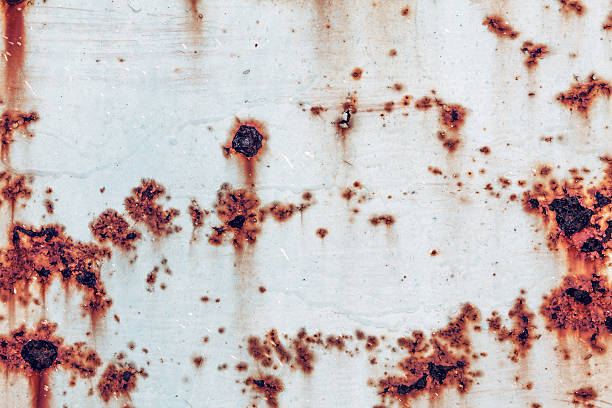rust: (2, 111, 323, 317), (236, 308, 487, 408), (502, 162, 612, 389), (479, 15, 608, 123), (333, 73, 480, 166), (2, 328, 150, 408)
